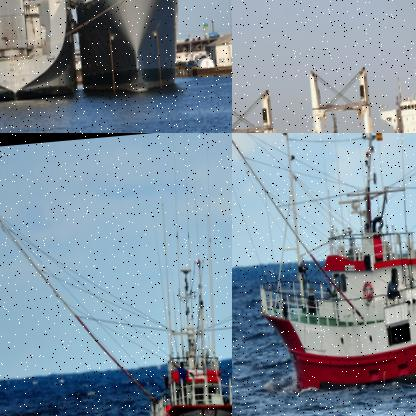Fishing Boat: (0, 171, 231, 415), (232, 133, 415, 401)
Merchant Ship: (232, 42, 415, 132)
Military Ship: (57, 0, 186, 99), (0, 0, 79, 106)
Tugboat: (306, 107, 386, 132)
